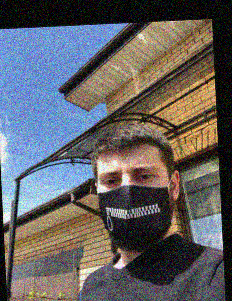with_mask: (96, 158, 174, 251)
